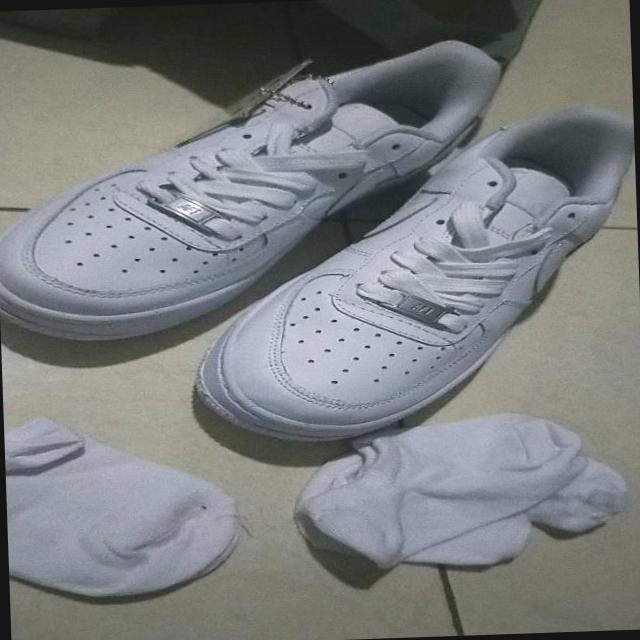nike_fake_airforce: (0, 36, 530, 347), (178, 102, 640, 443), (599, 160, 635, 172)
